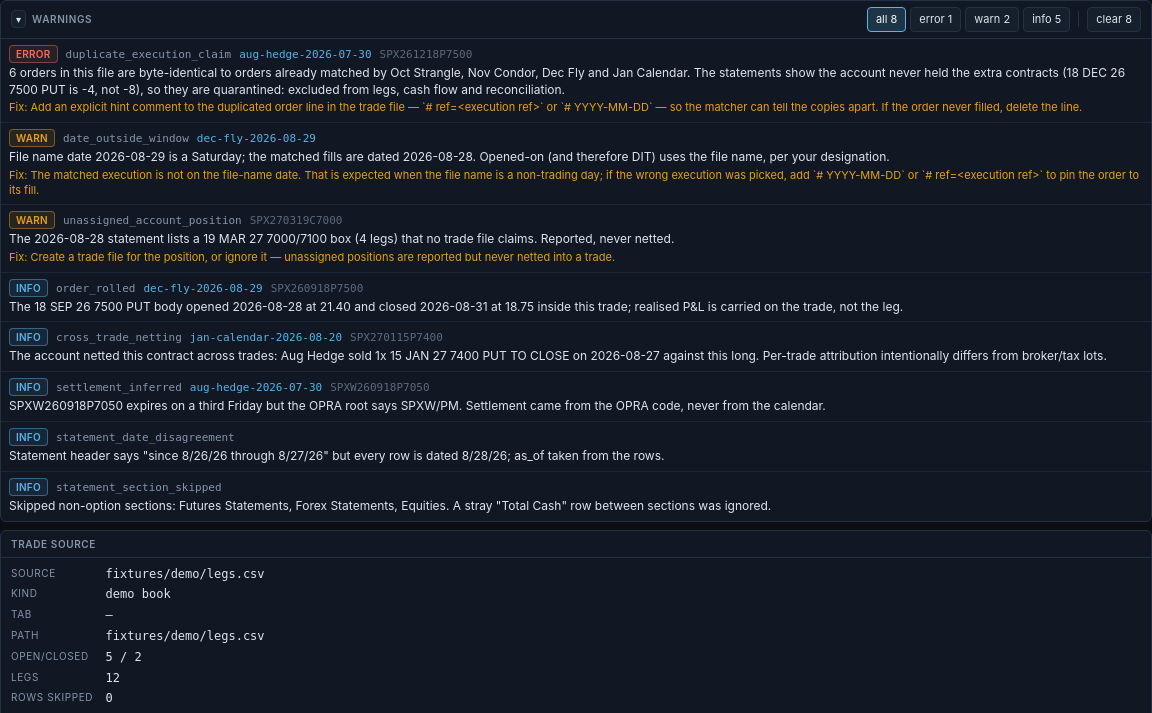
Test: DataHealth › filters by severity
This screenshot has width=1152, height=713.
Expected: the text "duplicate_execution_claim" is shown, [66,47,231,62]
Click the button "info 5" at (1047, 19), box [1023,7,1070,32]
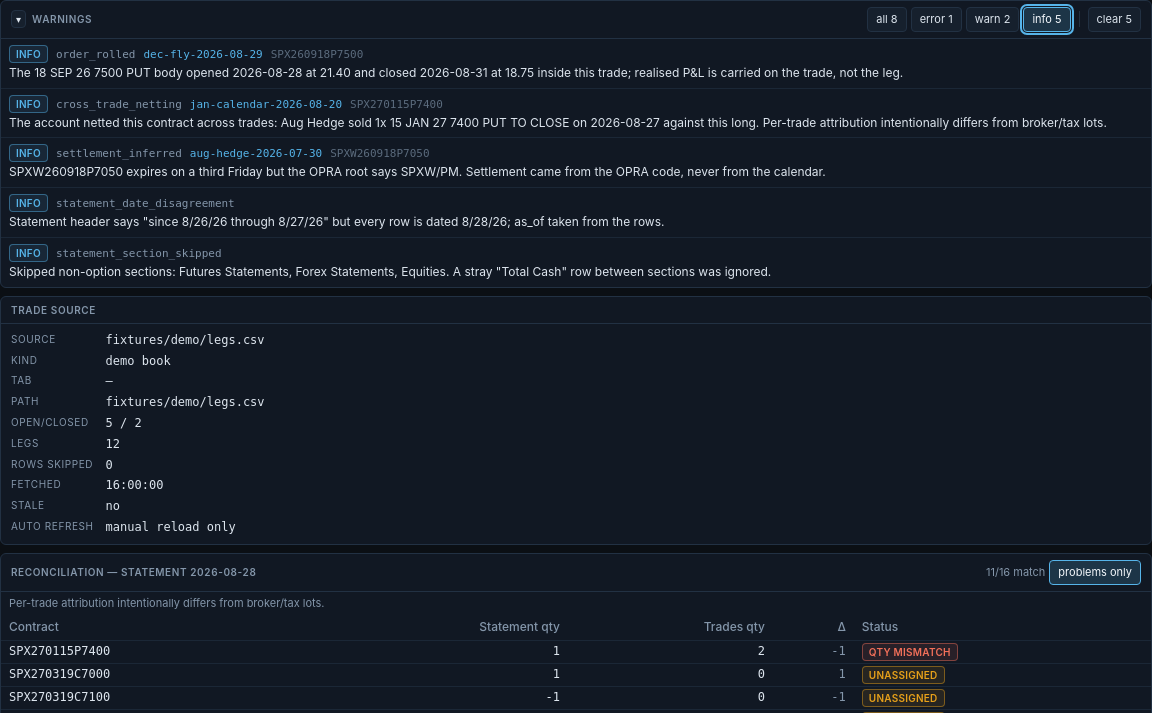
Expected: the text "statement_date_disagreement" is shown, [56,196,235,212]
Result: the text "duplicate_execution_claim" is gone
